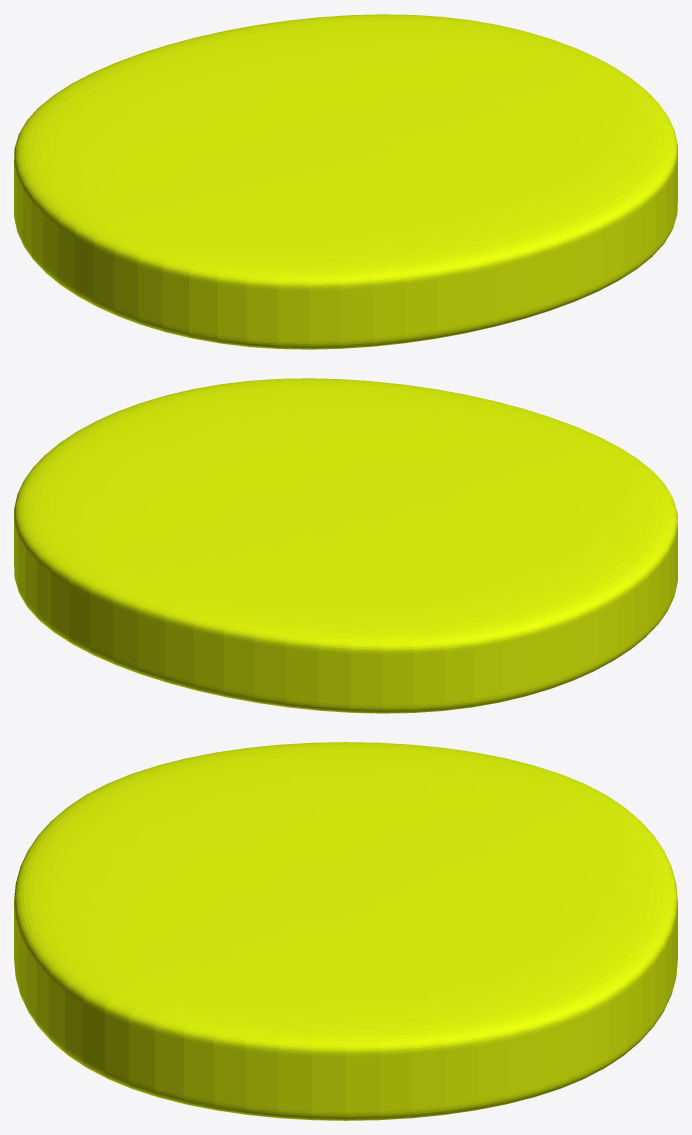
The model's file is tofu.gltf.
3 renders of one model, top to bottom at view 1: azimuth 30°, elevation 25°; view 2: azimuth 150°, elevation 25°; view 3: azimuth 270°, elevation 25°, orthographic. The views are drawn at different scales.
Visible parts, largest first — view 1: Cube.003; view 2: Cube.003; view 3: Cube.003.
Part boxes in pixels (box(x1,y1,x2,y2)): Cube.003: box(14, 14, 677, 349); Cube.003: box(14, 378, 677, 713); Cube.003: box(14, 742, 677, 1120).
Size of the model in its own units: 2.12 by 0.3227 by 1.94.
